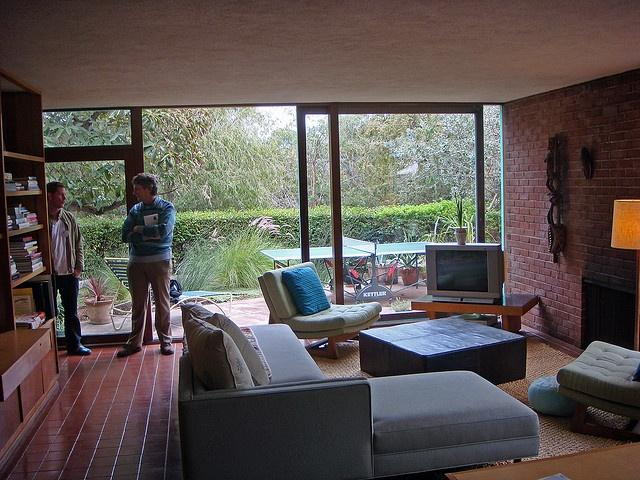AIO PC-Monitor-TV: (424, 242, 499, 303)
Rak: (0, 68, 52, 383)
